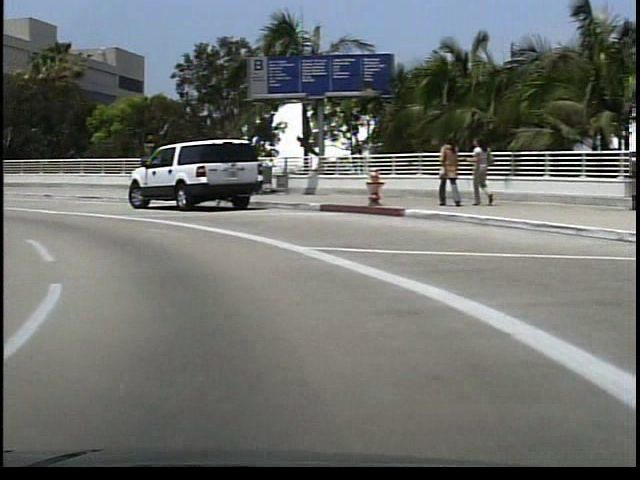person: (431, 132, 456, 214), (461, 135, 488, 210)
